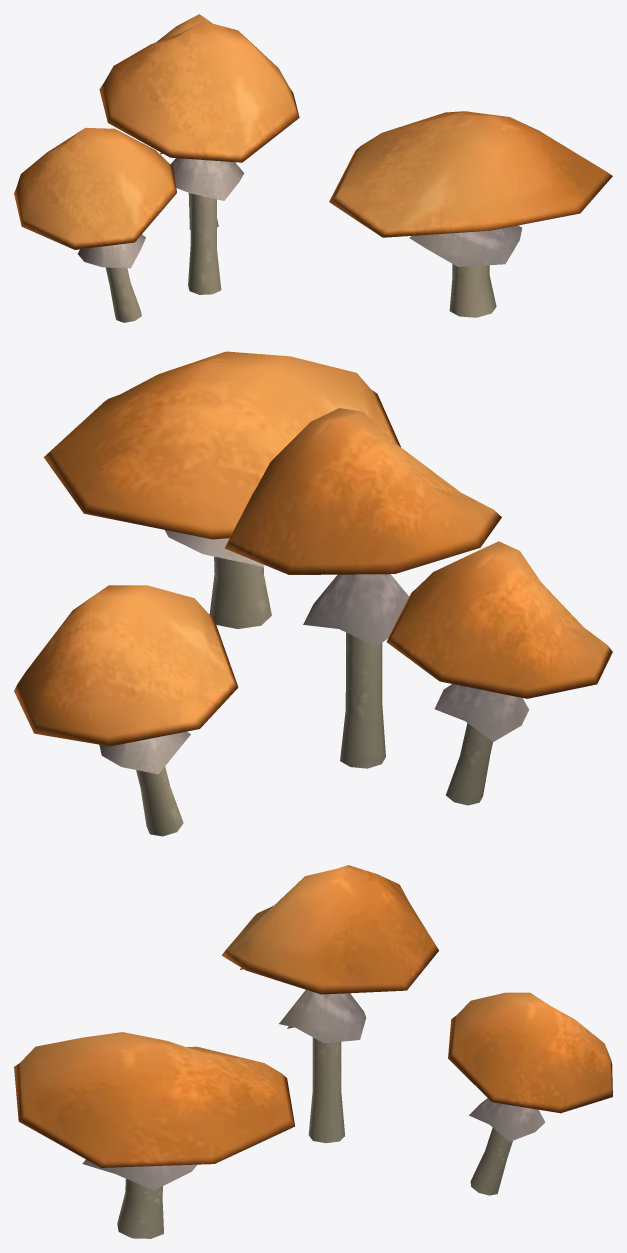
The model's file is Mushroom_RedCap.glb.
3 views of the same model, one above another, from view 1: azimuth 30°, elevation 25°; view 2: azimuth 150°, elevation 25°; view 3: azimuth 270°, elevation 25° (orthographic). The views are drawn at different scales.
Parts seen in each view (by area): view 1: Mushroom_RedCap; view 2: Mushroom_RedCap; view 3: Mushroom_RedCap.
Boxes of the visible parts, x1,y1,x2,y2 form: Mushroom_RedCap: (14,14,612,322); Mushroom_RedCap: (14,351,612,836); Mushroom_RedCap: (14,865,612,1238).
Bounding box in the file's own units: 1.68 × 0.9167 × 1.71.
Materials: 1 (1 with a texture image).
